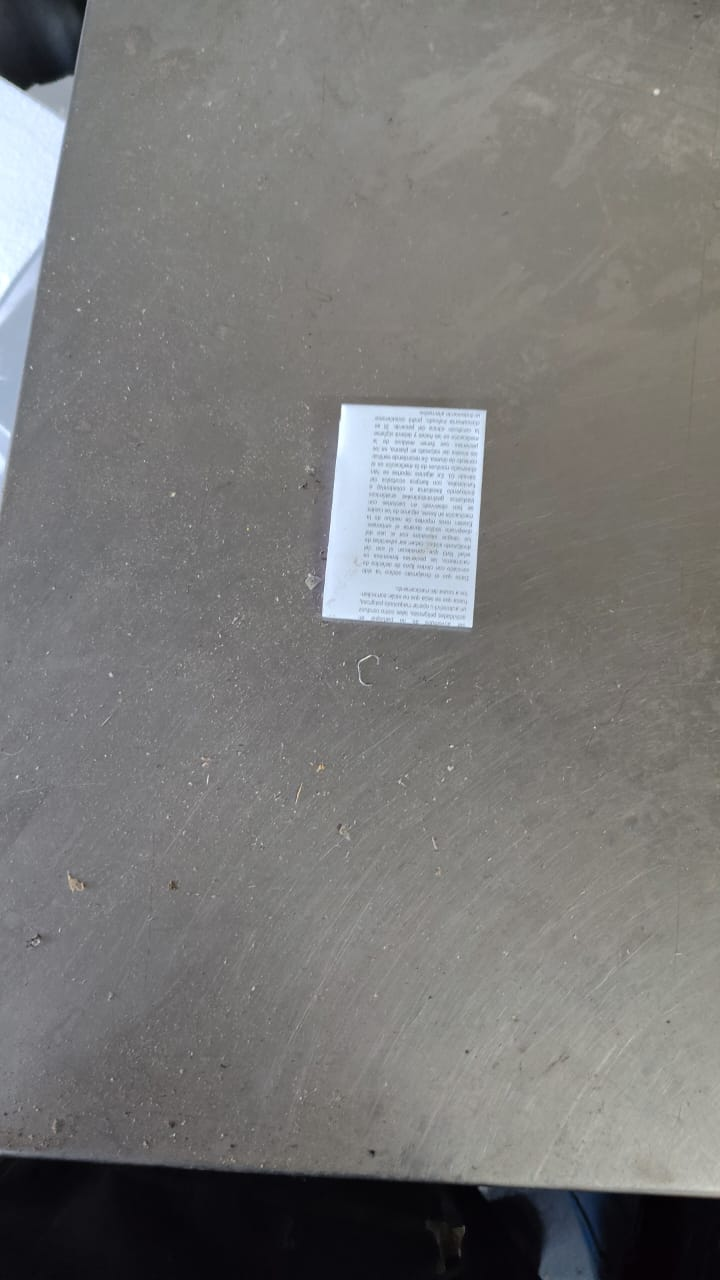Papel: (318, 405, 493, 628)
